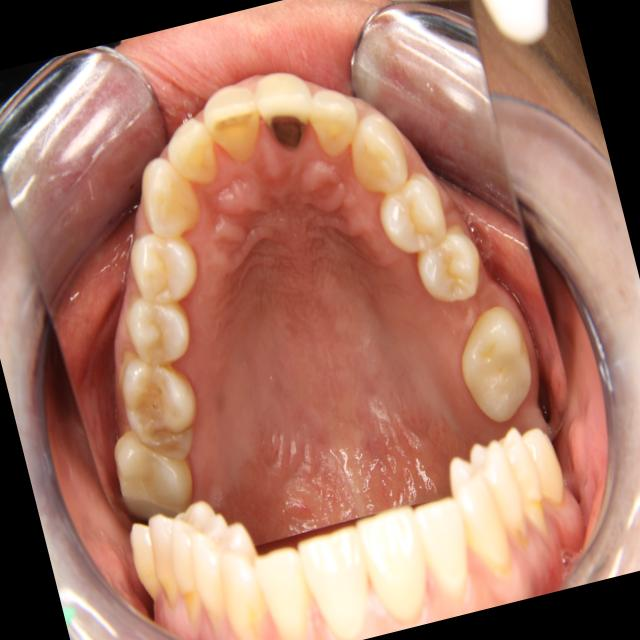tooth: (100, 331, 219, 478), (442, 282, 548, 436), (100, 414, 208, 539), (363, 152, 457, 266), (115, 216, 215, 320), (332, 95, 419, 208), (122, 141, 211, 251), (111, 279, 205, 382), (244, 54, 328, 166), (404, 214, 494, 317), (196, 70, 276, 176), (298, 70, 373, 173), (153, 110, 229, 201)
